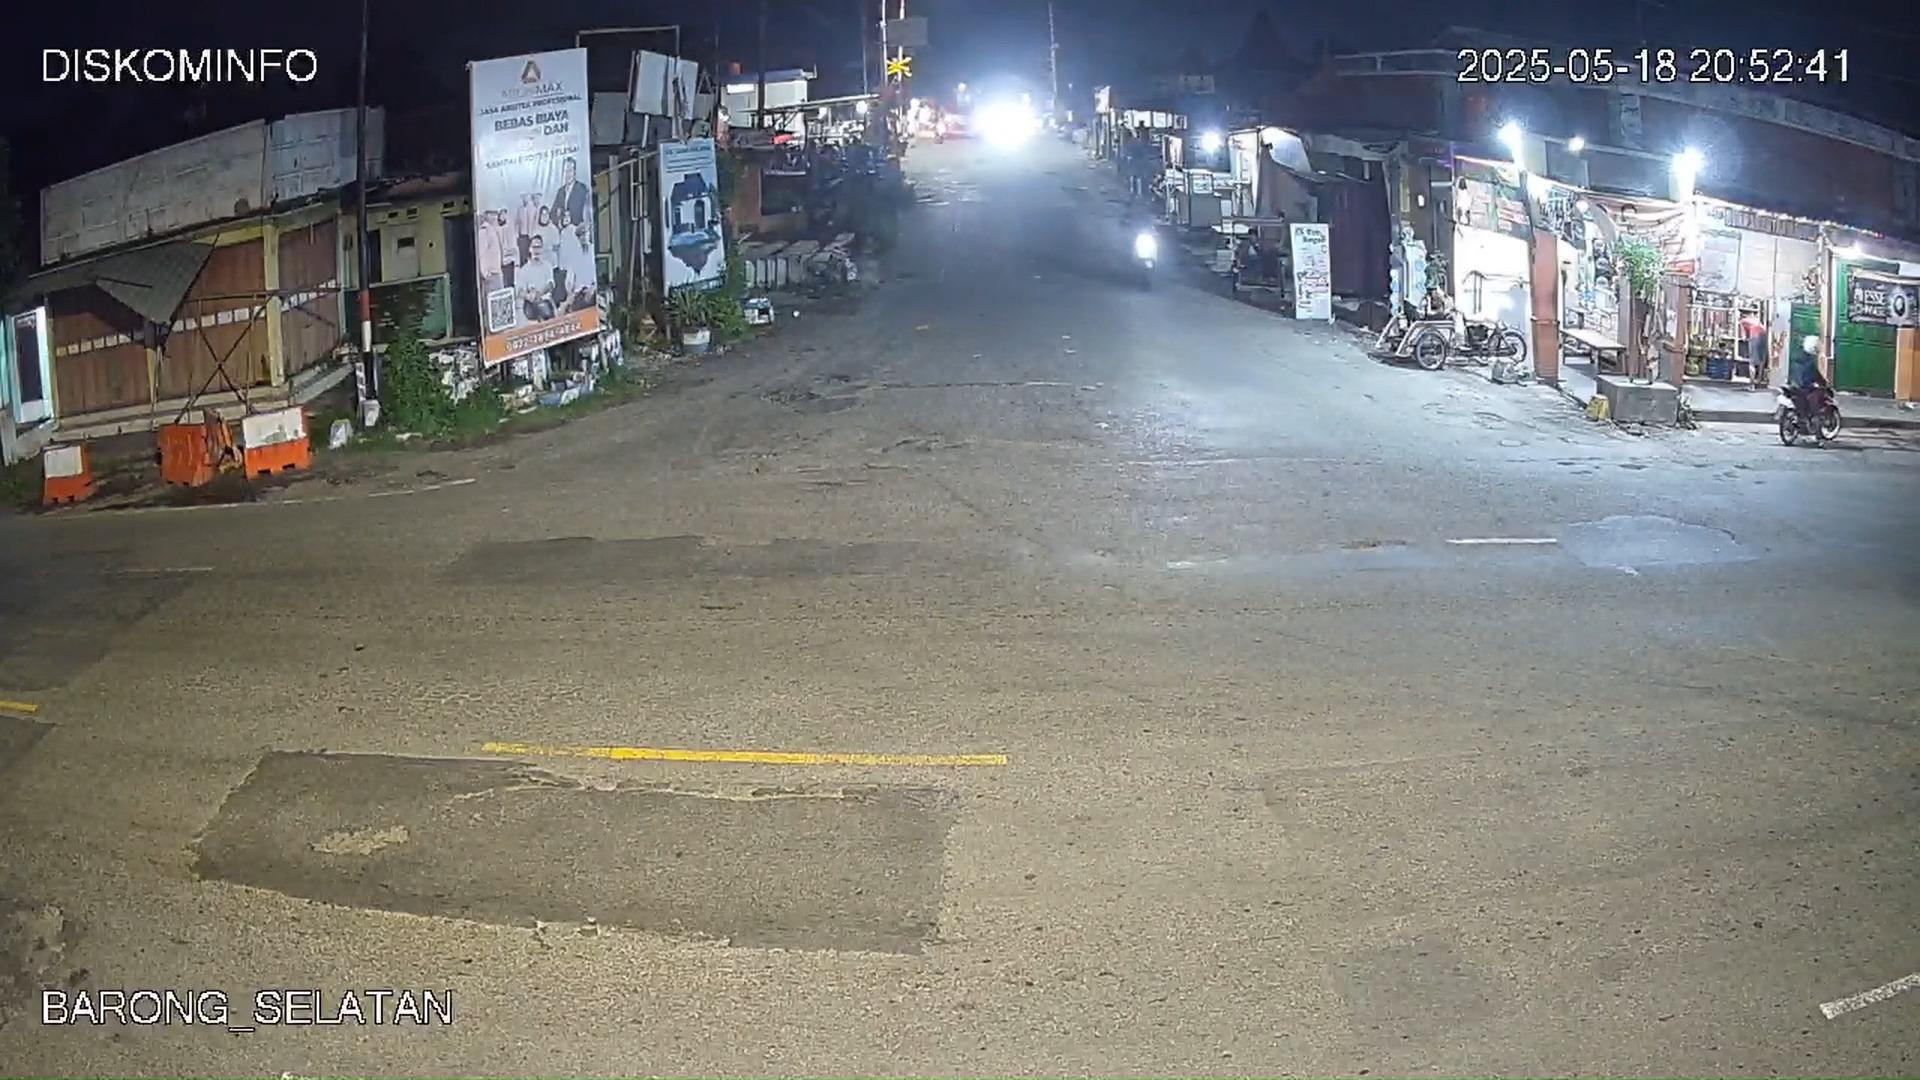Motor: (1775, 375, 1841, 446)
